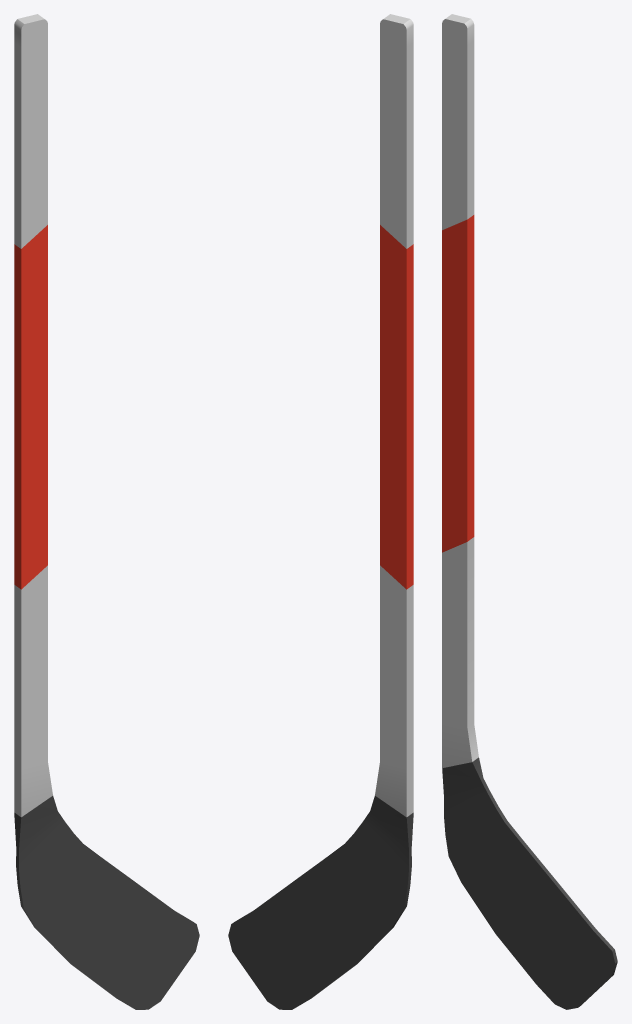
File: Hockey Stick Red.fbx
The picture shows the model from 3 angles, left to right: view 1: azimuth 30°, elevation 25°; view 2: azimuth 150°, elevation 25°; view 3: azimuth 330°, elevation 25°; orthographic projection. The views are drawn at different scales.
Visible parts, largest first — view 1: Hockey Stick Red; view 2: Hockey Stick Red; view 3: Hockey Stick Red.
Boxes of the visible parts, left/top/right/bottom form: Hockey Stick Red: left=14, top=14, right=199, bottom=1009; Hockey Stick Red: left=228, top=14, right=413, bottom=1009; Hockey Stick Red: left=442, top=14, right=617, bottom=1009.
Size of the model in its own units: 0.3741 by 2.01 by 0.0254.
